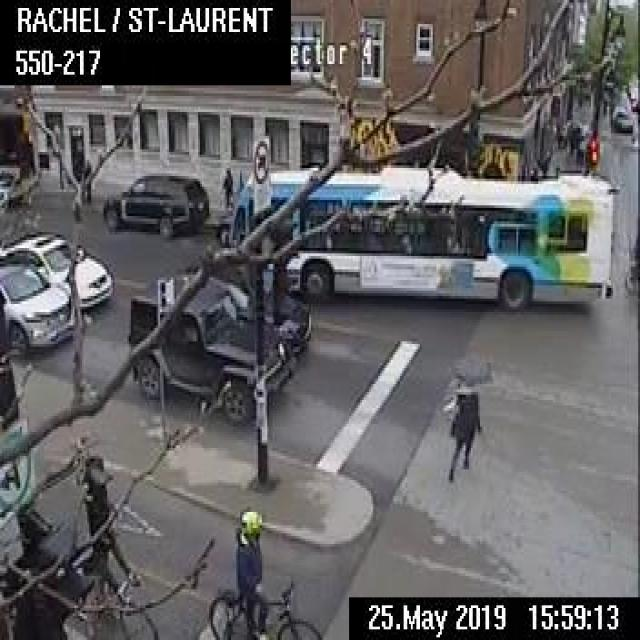bus: (222, 158, 611, 300)
cyclist: (205, 507, 324, 637), (75, 515, 158, 637)
pedestrian: (444, 368, 480, 485), (218, 165, 233, 208)
vehicle: (128, 271, 293, 424), (182, 250, 313, 358), (0, 230, 111, 302), (102, 171, 206, 236), (0, 266, 73, 354), (0, 160, 35, 216), (607, 101, 635, 136)
